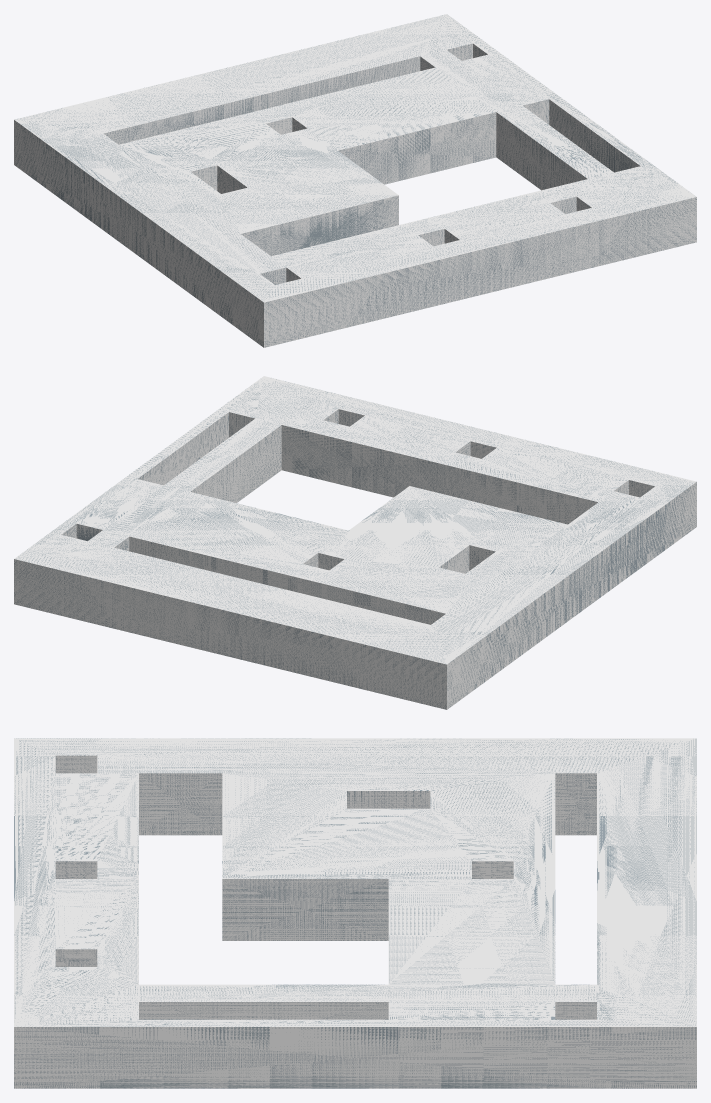
3 renders of one model, top to bottom at view 1: azimuth 30°, elevation 25°; view 2: azimuth 150°, elevation 25°; view 3: azimuth 270°, elevation 25°, orthographic. The views are drawn at different scales.
Parts seen in each view (by area): view 1: Model; view 2: Model; view 3: Model.
Boxes of the visible parts, x1,y1,x2,y2 form: Model: (14, 14, 696, 347); Model: (14, 376, 696, 709); Model: (14, 738, 696, 1088).
Size of the model in its own units: 5 by 0.5 by 5.
